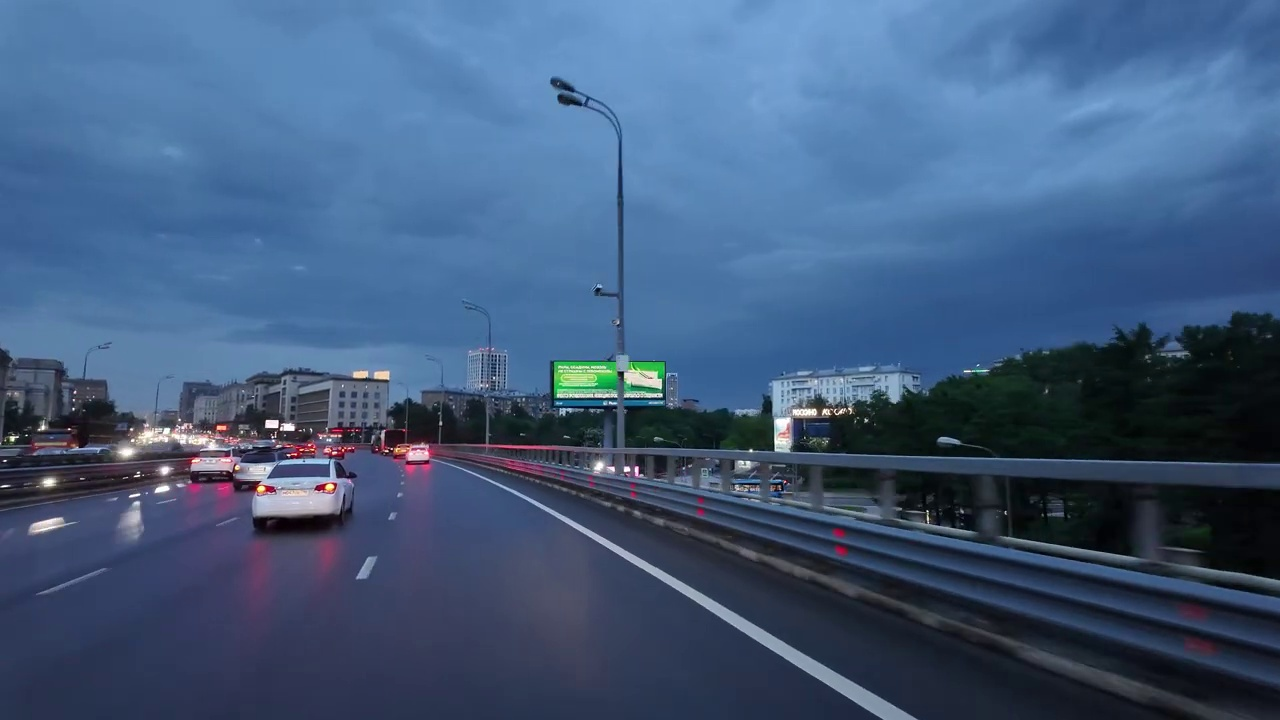apagada: (544, 74, 585, 113), (588, 281, 612, 302)
